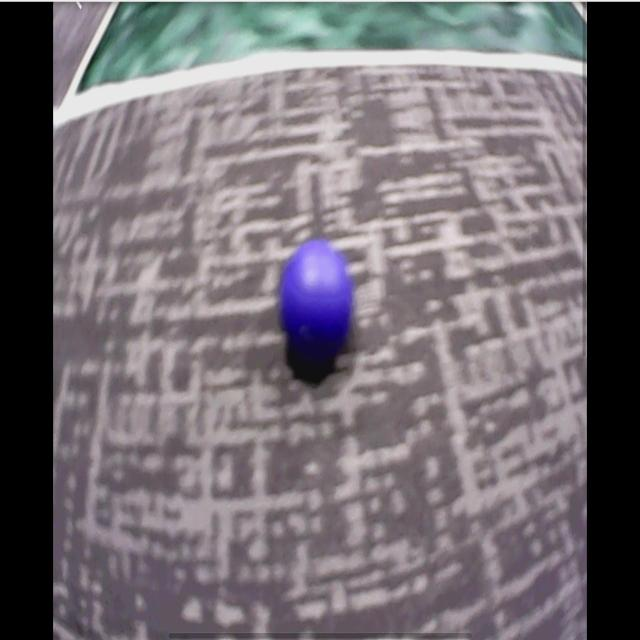ball: (283, 242, 350, 348)
